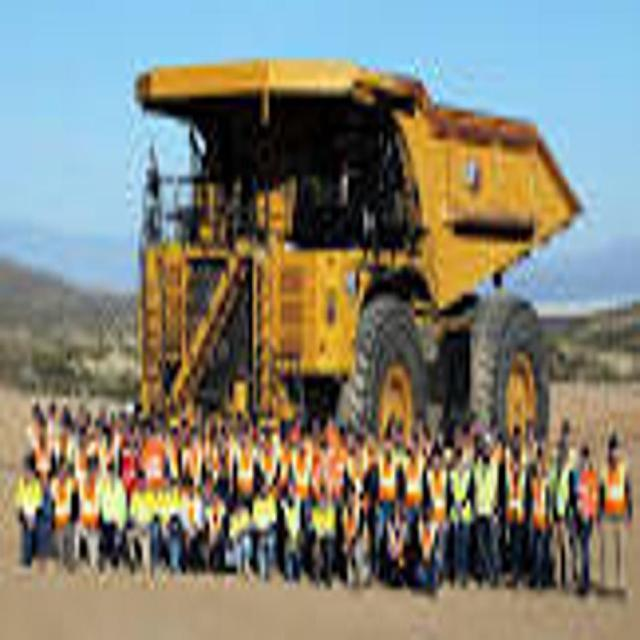dump_truck: (131, 47, 584, 438)
